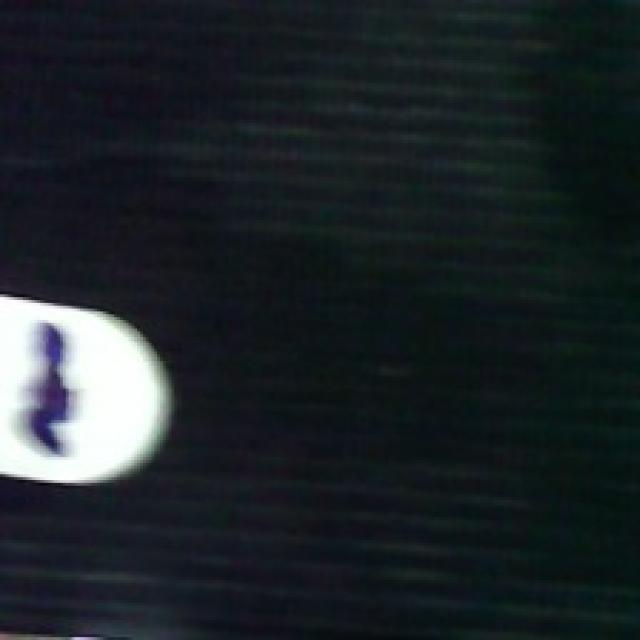defected: (0, 286, 177, 486)
